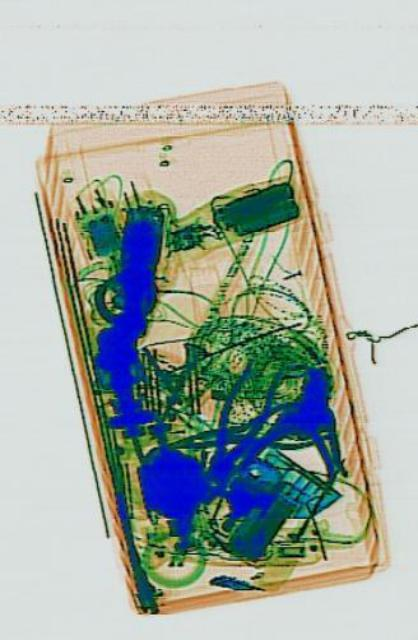Pliers: (193, 336, 285, 497), (159, 390, 330, 470)
